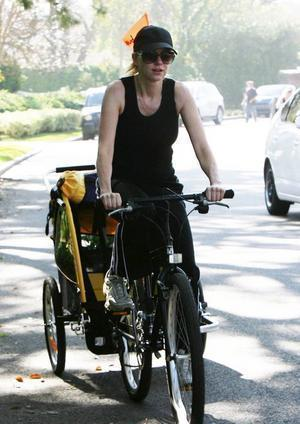person: (96, 22, 226, 395)
